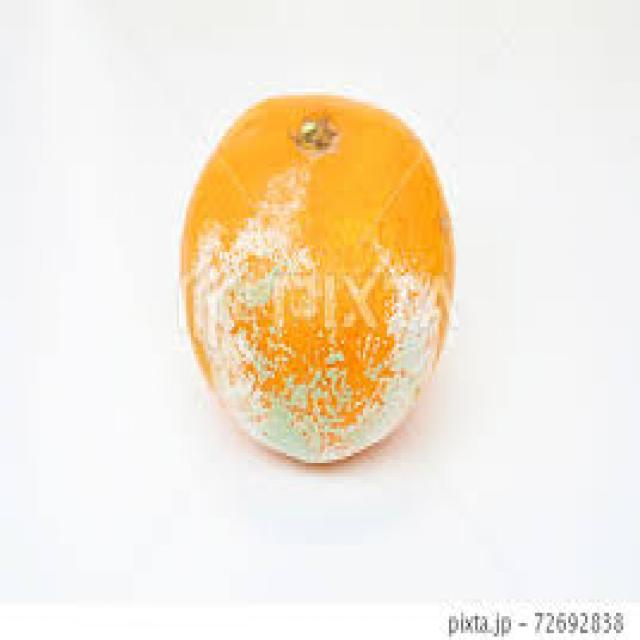organic waste: (179, 92, 454, 463)
